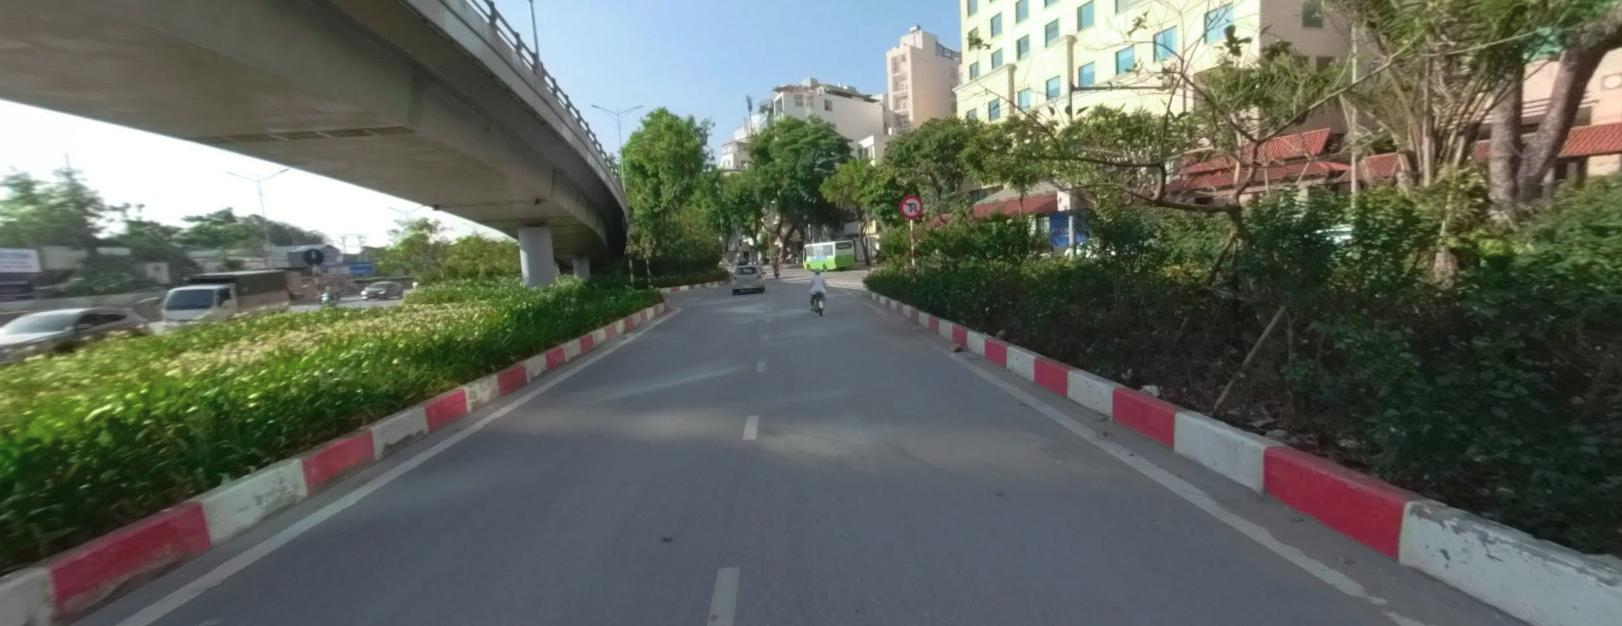Cam re: (899, 195, 922, 216)
